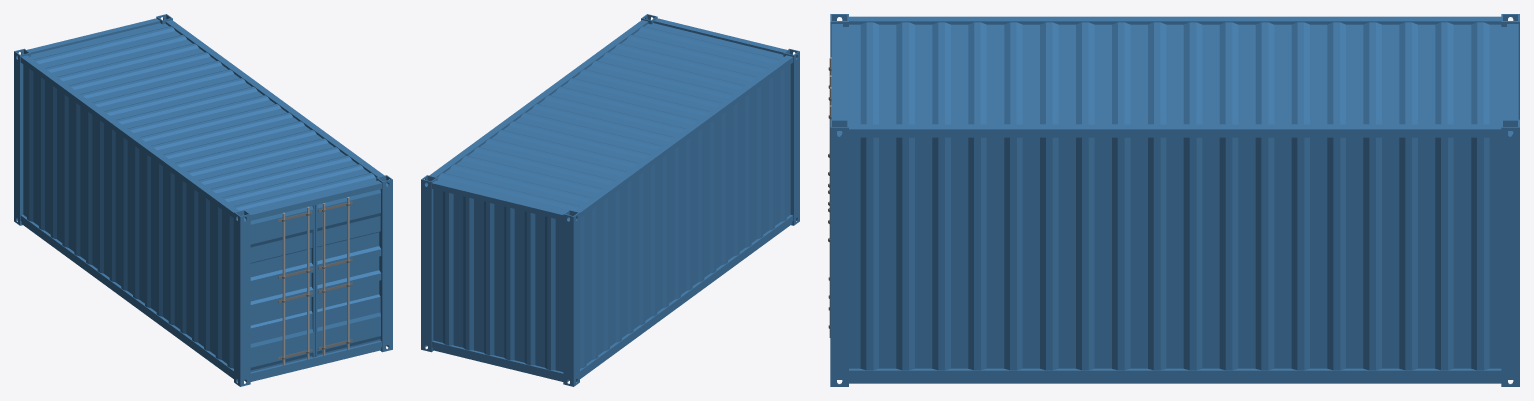
Rendered from uploads_files_110304_c1.FBX.
The picture shows the model from 3 angles, left to right: view 1: azimuth 30°, elevation 25°; view 2: azimuth 150°, elevation 25°; view 3: azimuth 270°, elevation 25°; orthographic projection. The views are drawn at different scales.
Visible parts, largest first — view 1: Group_001; view 2: Group_001; view 3: Group_001.
Part boxes in pixels (x1,y1,x2,y2): Group_001: (14,14,392,386); Group_001: (421,14,799,386); Group_001: (828,14,1519,386).
Size of the model in its own units: 232 by 247 by 597.
